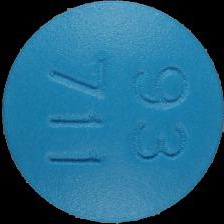50090-0509: (0, 0, 224, 224)
